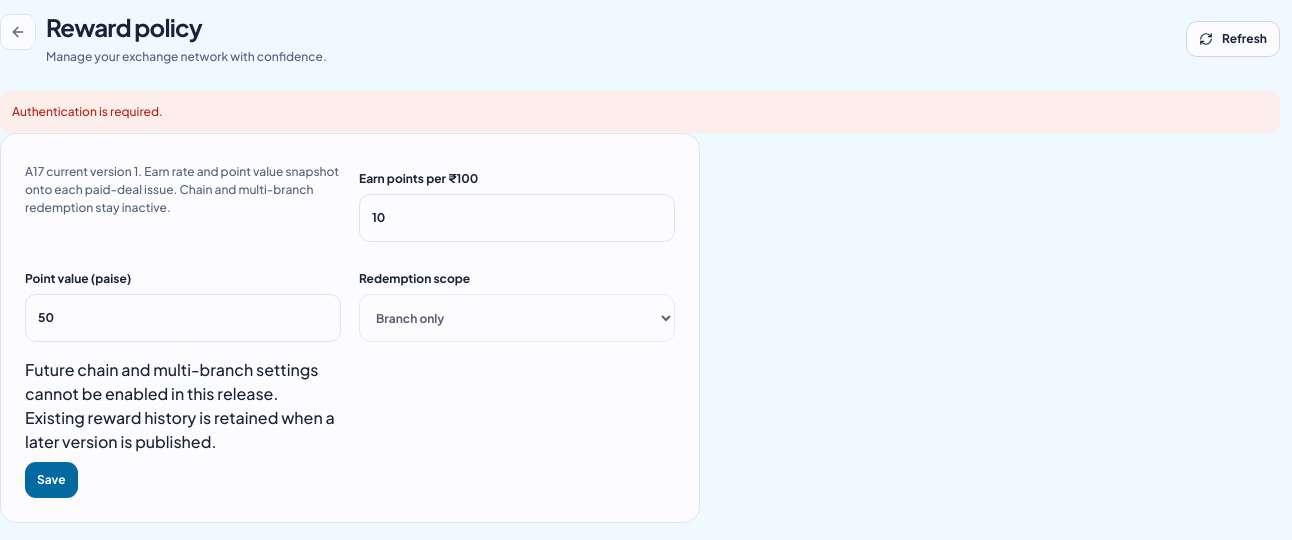
A17 keeps chain and multi-branch redemption inactive
This screenshot has width=1292, height=540.
Expected: the heading "Reward policy" is shown, [46,12,202,42]
Expected: the dropdown labelled "Redemption scope" is disabled, [359,294,675,342]
Click the button "Save": (51, 480) [25,462,78,498]
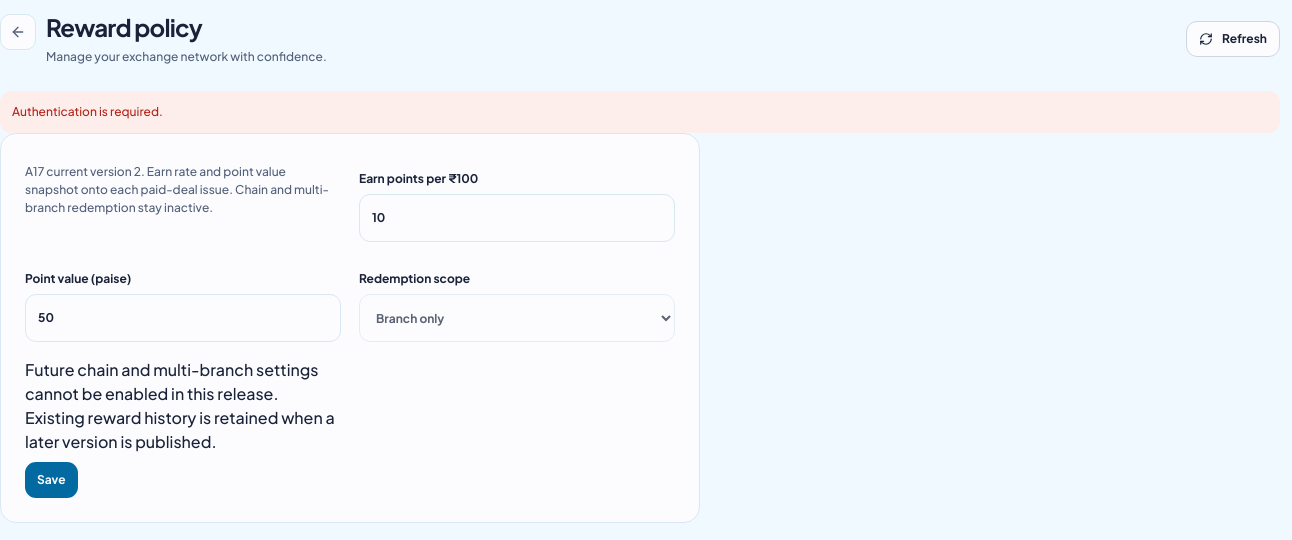
Now the text "current version 2" is shown, box [25,163,341,217]
